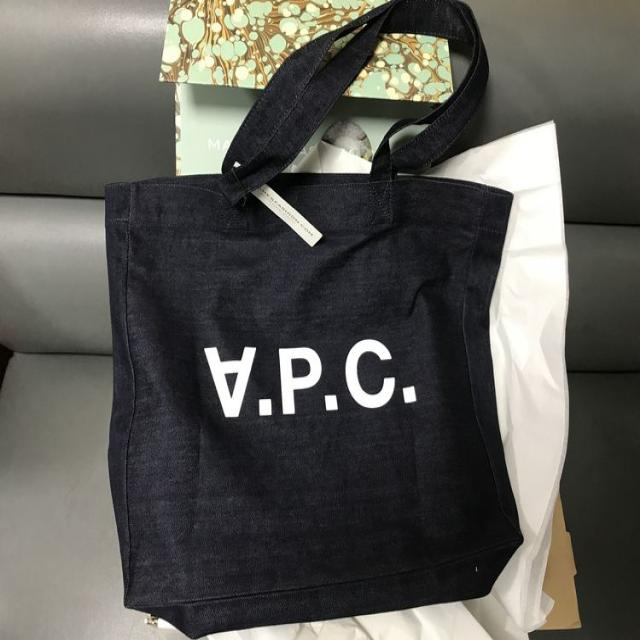ecobag: (86, 9, 538, 621)
